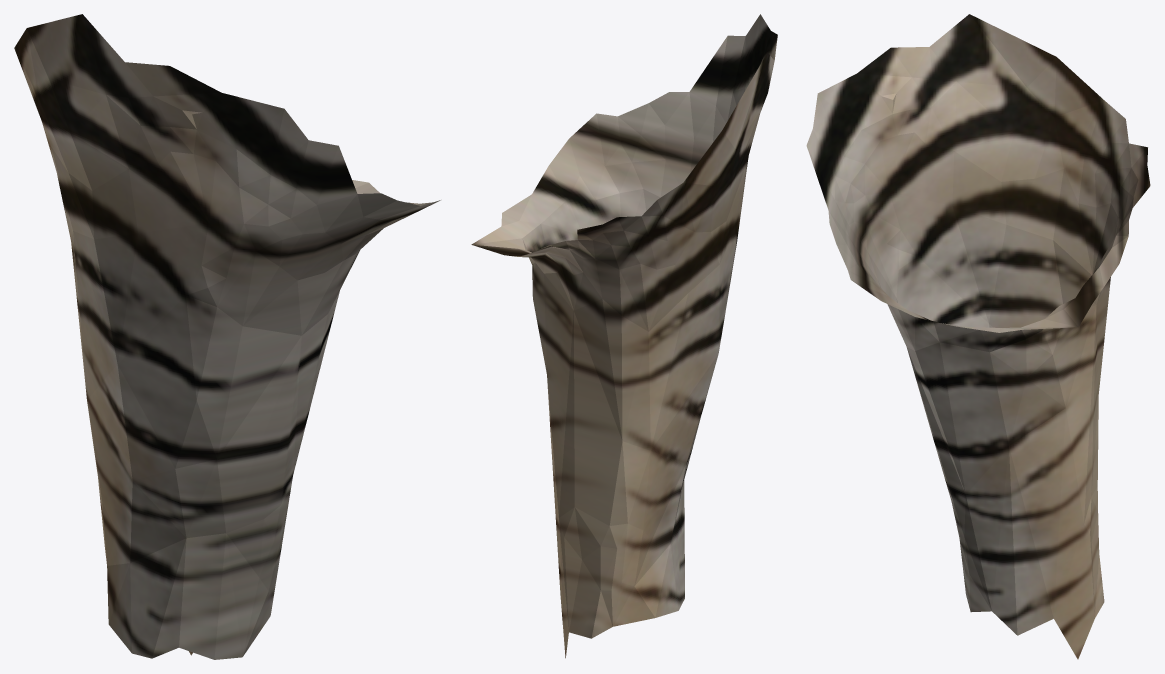
Rendered from Zpatafd.obj.
3 views of the same model, side by side, from view 1: azimuth 30°, elevation 25°; view 2: azimuth 150°, elevation 25°; view 3: azimuth 270°, elevation 25° (orthographic). The views are drawn at different scales.
Parts seen in each view (by area): view 1: PFD; view 2: PFD; view 3: PFD.
Boxes of the visible parts, x1,y1,x2,y2 form: PFD: (14, 14, 440, 659); PFD: (471, 14, 777, 658); PFD: (806, 14, 1150, 659).
Size of the model in its own units: 0.241 by 0.5544 by 0.2991.
Materials: 1 (1 with a texture image).
